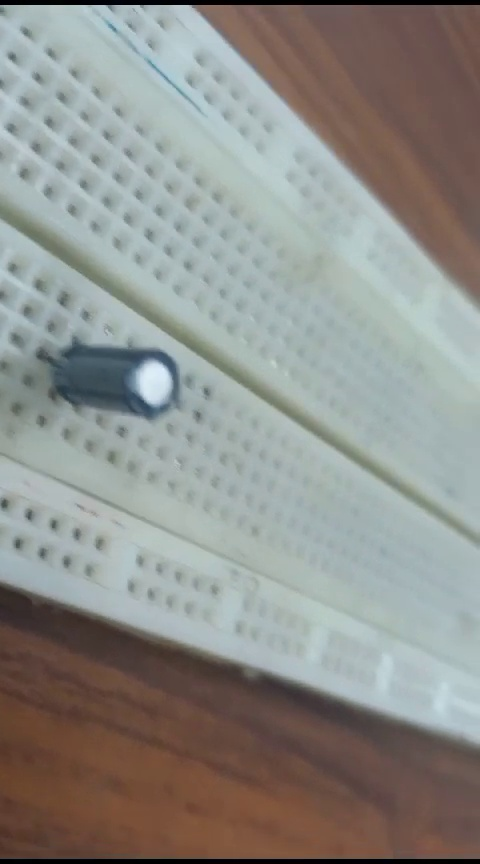capacitor: (30, 331, 184, 431)
